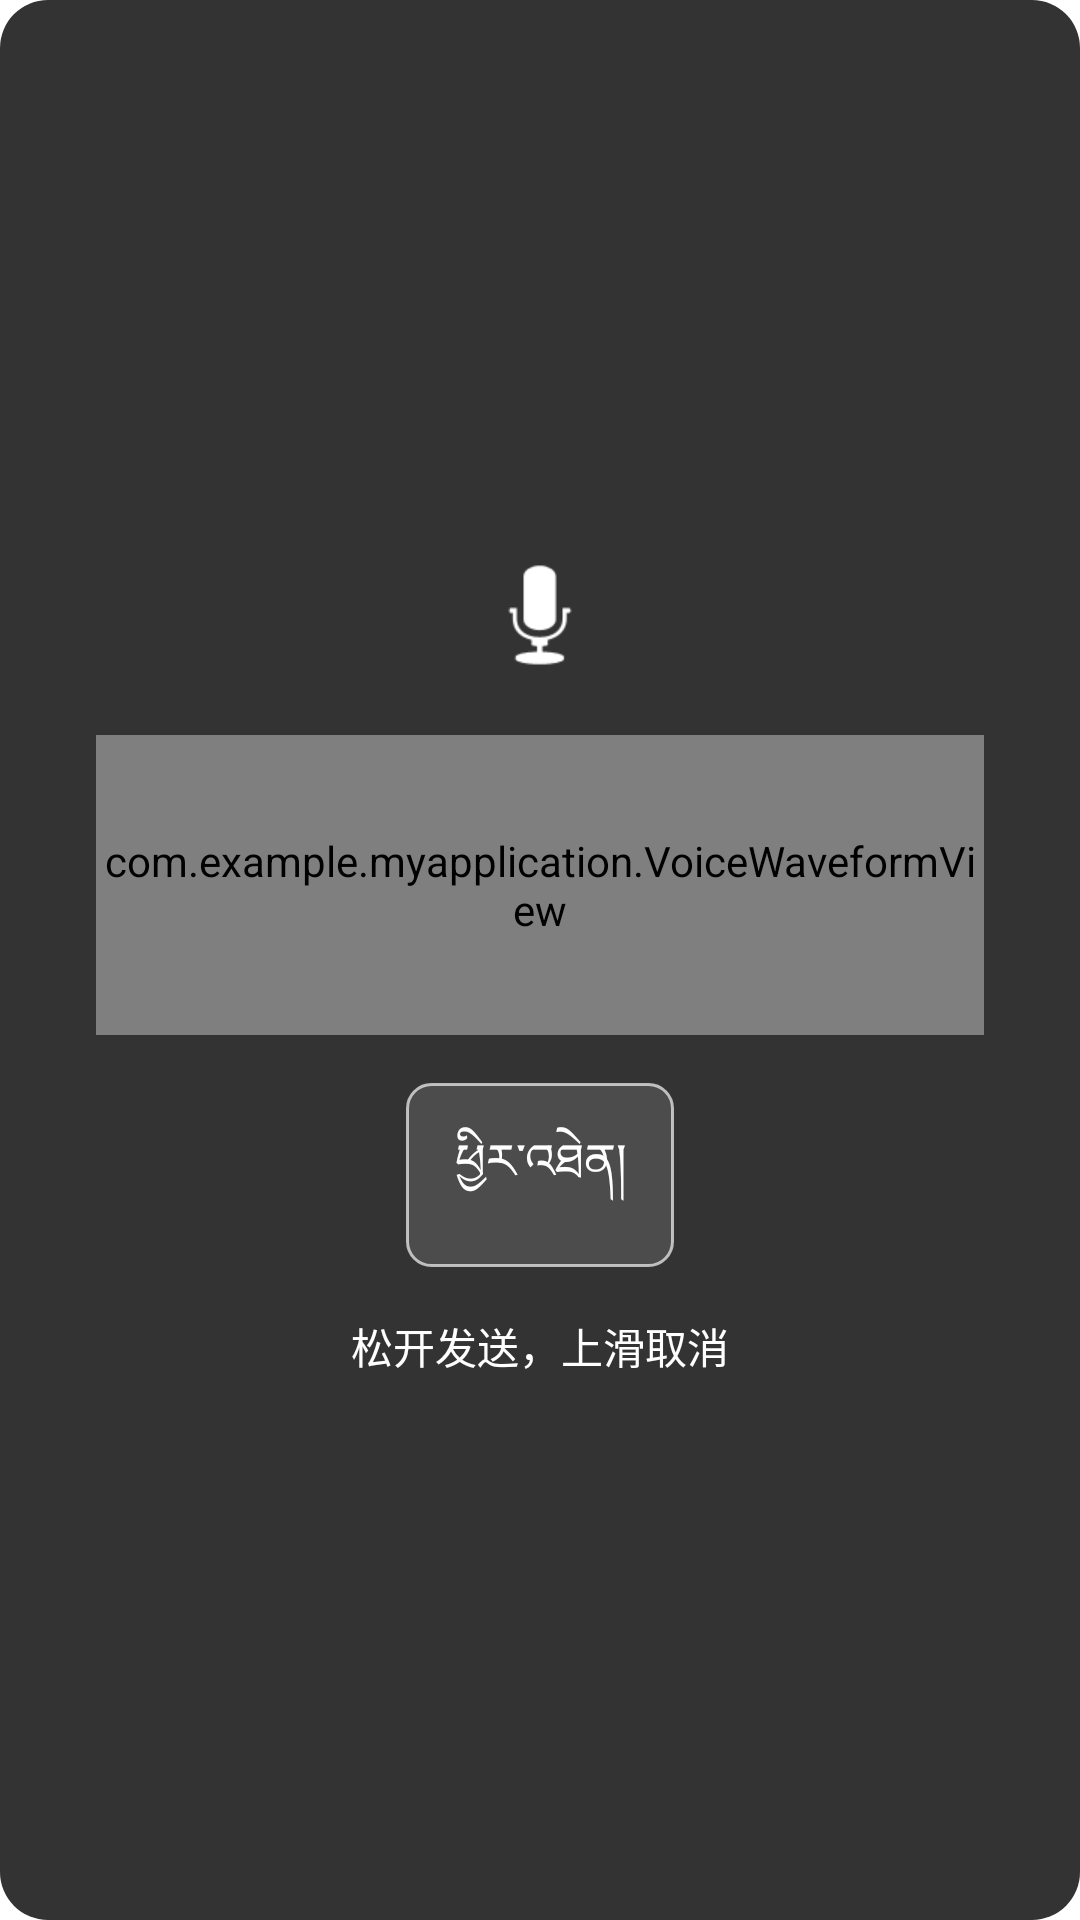

Where icons sit on this 1080×1920 app screen, as rect(x1, y1, x2, y2):
speak now: rect(508, 565, 572, 665)
